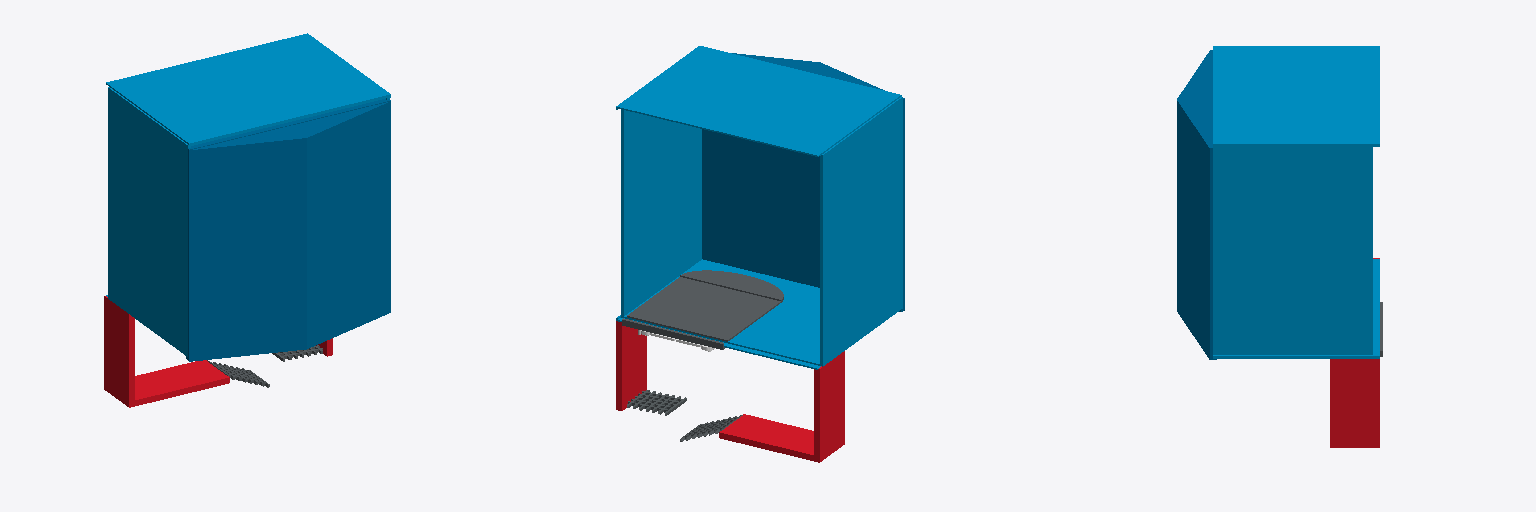
Rendered from tinker.obj.
The picture shows the model from 3 angles: view 1: azimuth 30°, elevation 25°; view 2: azimuth 150°, elevation 25°; view 3: azimuth 270°, elevation 25°; orthographic projection.
Parts seen in each view (by area): view 1: obj_0; view 2: obj_0; view 3: obj_0.
Part boxes in pixels (x1,y1,x2,y2): obj_0: (104,33,390,407); obj_0: (616,46,904,462); obj_0: (1177,46,1382,447).
Size of the model in its own units: 70.53 by 107 by 62.